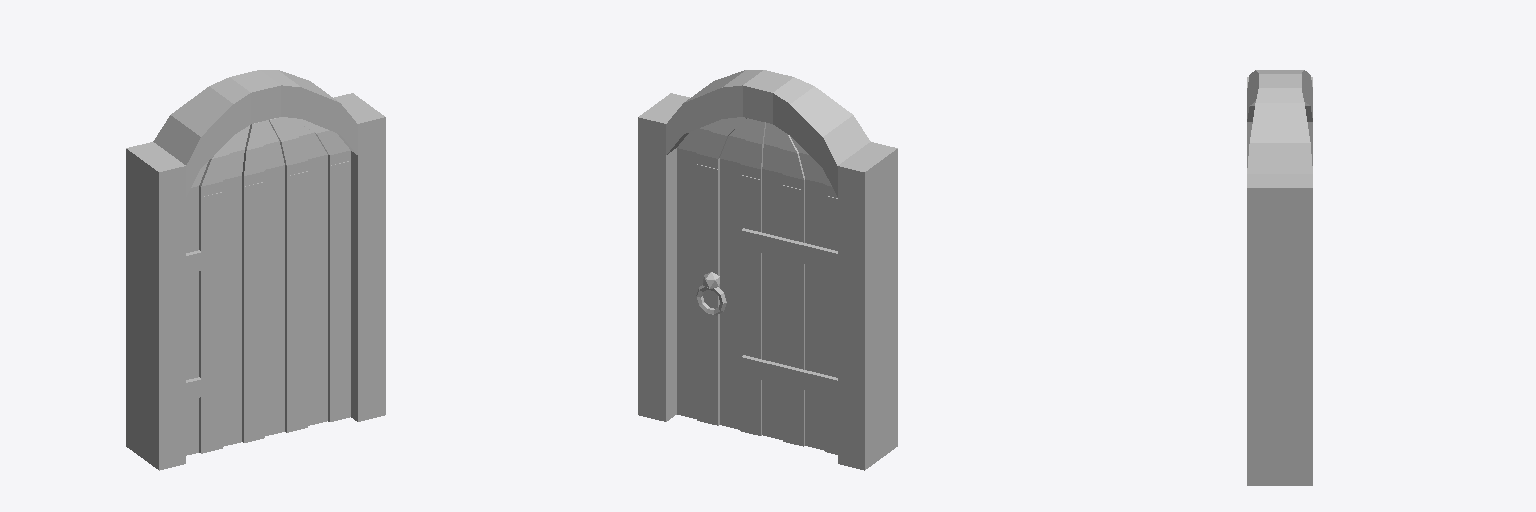
Rendered from puerta.obj.
3 views of the same model, side by side, from view 1: azimuth 30°, elevation 25°; view 2: azimuth 150°, elevation 25°; view 3: azimuth 270°, elevation 25° (orthographic).
Parts seen in each view (by area): view 1: Puerta_1.002_Puerta_1_Cube.002; view 2: Puerta_1.002_Puerta_1_Cube.002; view 3: Puerta_1.002_Puerta_1_Cube.002.
Boxes of the visible parts, x1,y1,x2,y2 form: Puerta_1.002_Puerta_1_Cube.002: [126, 70, 385, 470]; Puerta_1.002_Puerta_1_Cube.002: [638, 70, 897, 470]; Puerta_1.002_Puerta_1_Cube.002: [1247, 70, 1312, 485].
Size of the model in its own units: 3.26 by 4.8 by 0.8255.